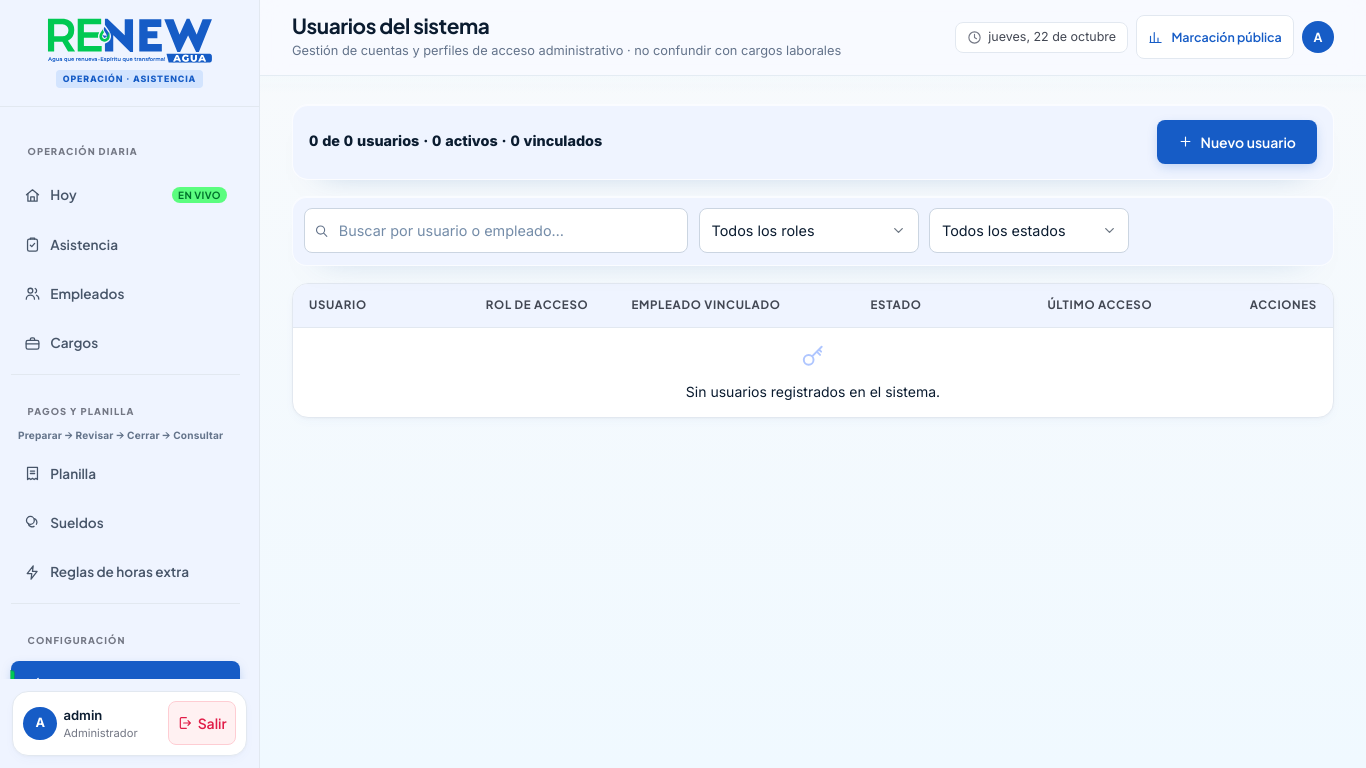
Test case: Admin · usuarios: carga de listados y formulario › inicializa el rol del formulario y cambiarlo no repite listados
Click the button "Nuevo usuario": (1237, 142) 1156,120 -> 1317,164
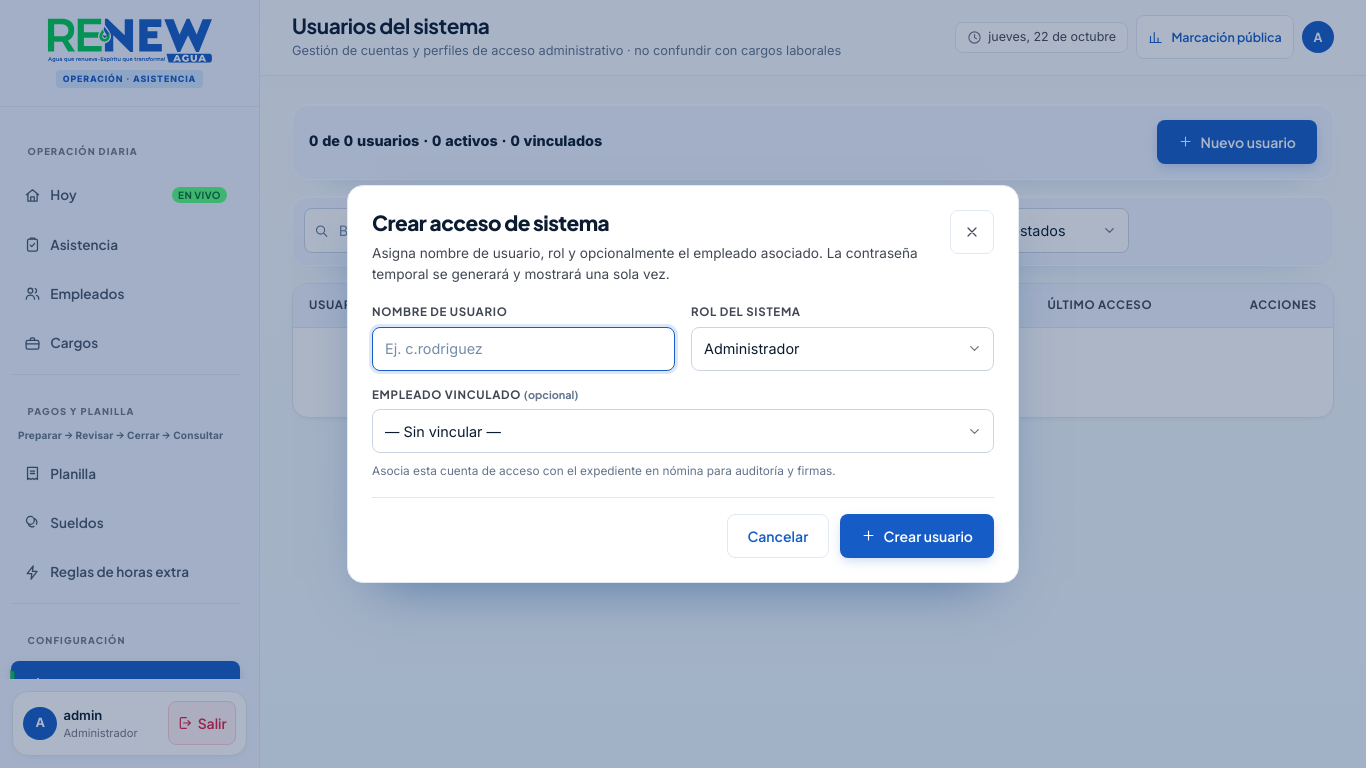
expect the dropdown named "Rol del sistema" reads "Administrador": met
Click the dropdown named "Rol del sistema": (752, 349) 691,327 -> 994,371
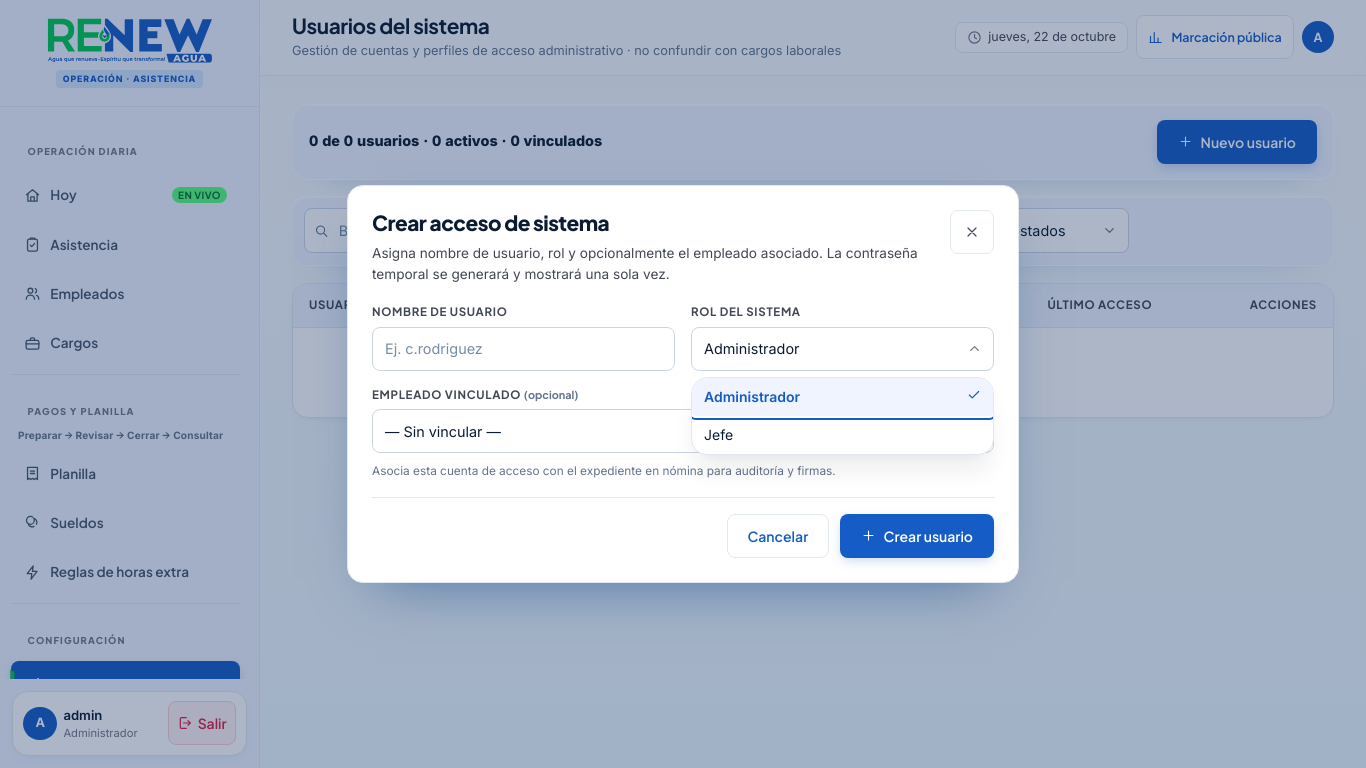
Click the option "Jefe": (719, 434) 704,426 -> 733,443
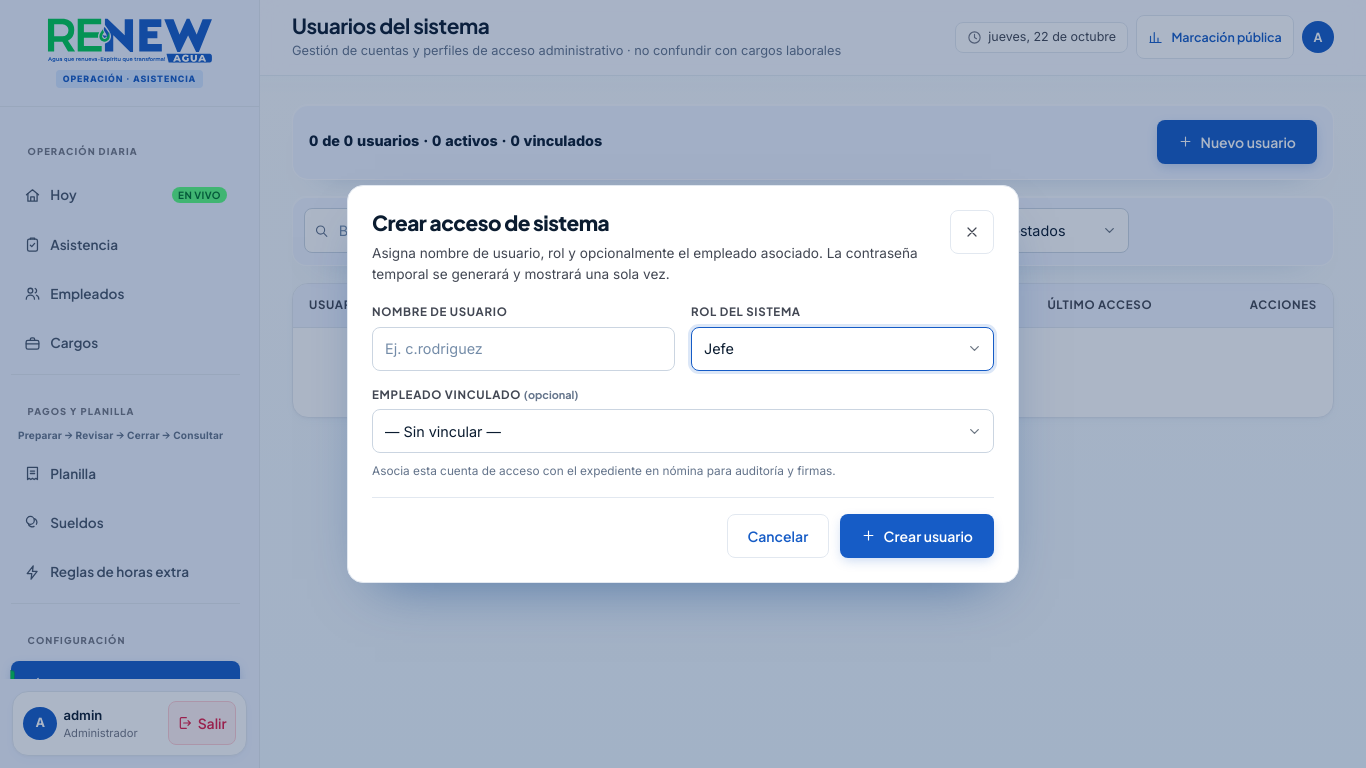
expect the dialog "Crear acceso de sistema" is shown: met, box 347,185 -> 1019,583
expect the dropdown named "Rol del sistema" reads "Jefe": met, box 691,327 -> 994,371
